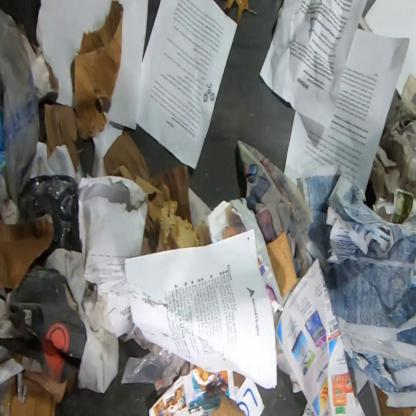cardboard: (103, 127, 194, 256), (71, 0, 124, 142), (0, 213, 55, 290), (9, 367, 69, 415), (44, 103, 84, 175), (266, 228, 298, 299), (209, 394, 250, 415)
rigid_plastic: (17, 174, 82, 264), (0, 375, 15, 415)
soft_plastic: (0, 6, 41, 206), (121, 348, 186, 388)
